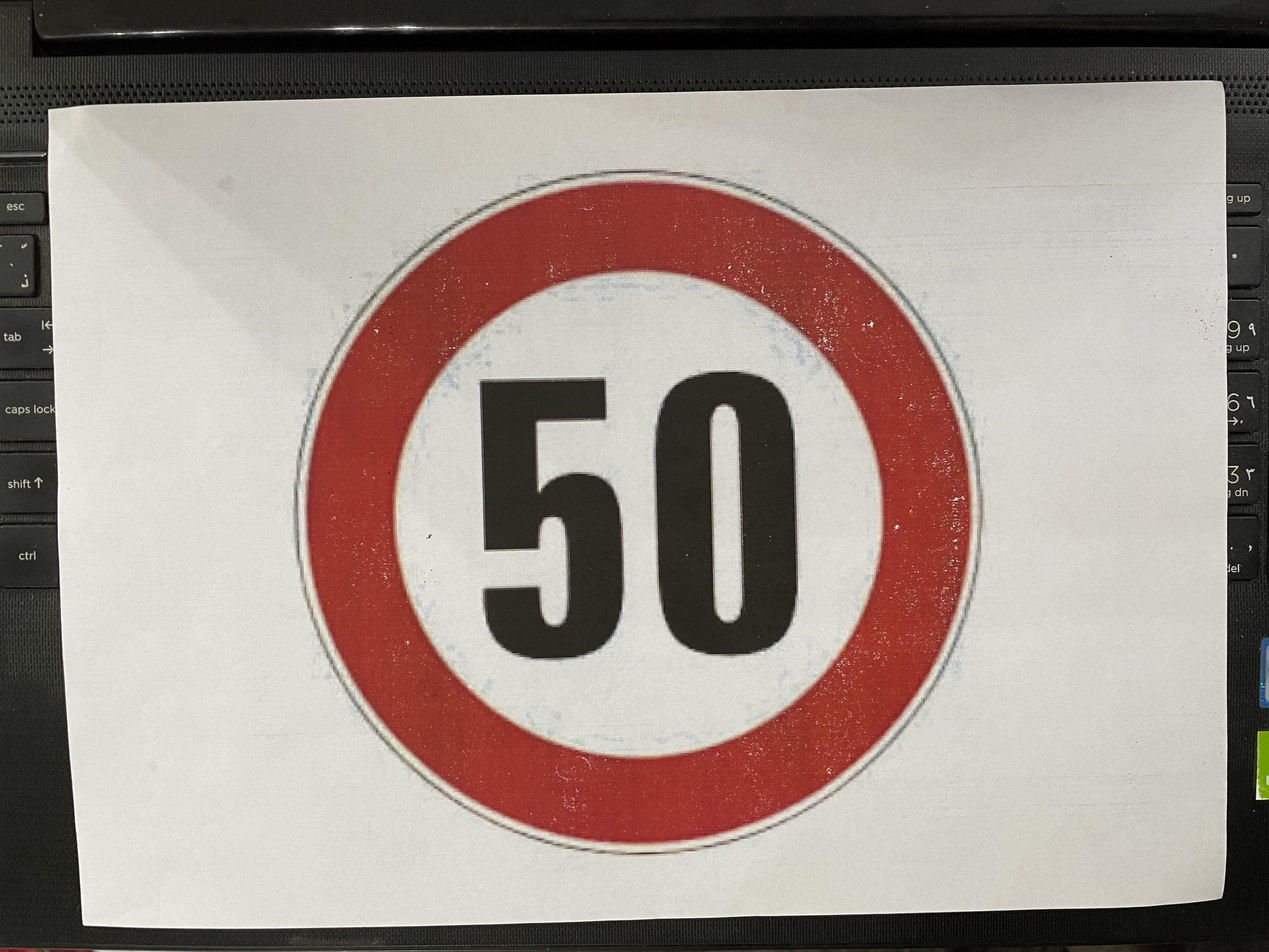50-Speed: (110, 201, 1073, 738)
